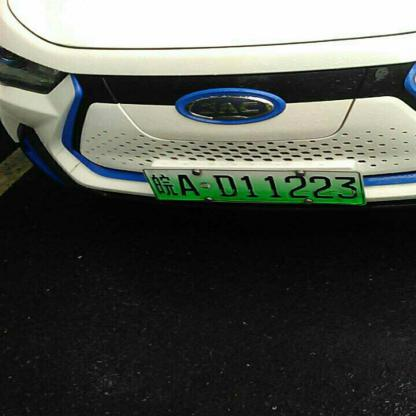lp: (143, 170, 363, 204)
